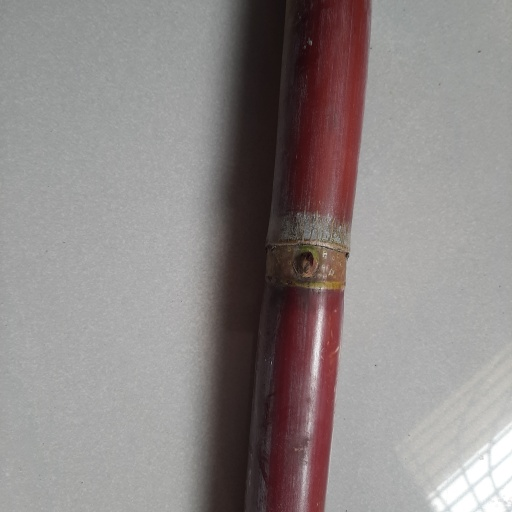Bud: (291, 250, 317, 279)
